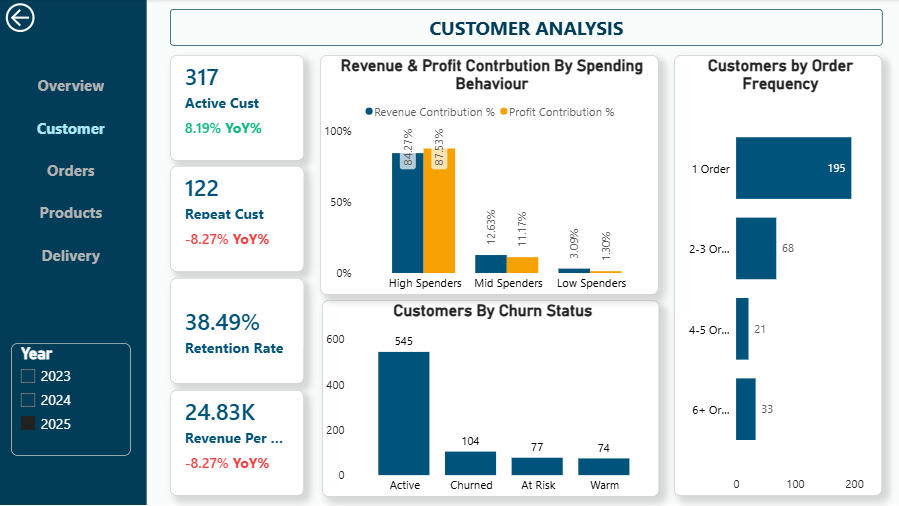

Layout of this report page (visuals, bound fields, positions):
{"tool":"powerbi","page":{"name":"Customer","canvas":[1280,720],"ordinal":1},"visuals":[{"type":"textbox","box":[243.8,14.2,1010,52],"z":0},{"type":"actionButton","box":[18.5,157.1,169.7,50.4],"z":1000},{"type":"actionButton","box":[18.5,218.4,169.7,48.7],"z":2000},{"type":"actionButton","box":[18.5,337.6,169.7,50.4],"z":3000},{"type":"actionButton","box":[18.5,278,169.7,48.7],"z":4000},{"type":"actionButton","box":[18.5,95.7,169.7,50.4],"z":5000},{"type":"actionButton","box":[0,0,63.4,52.8],"z":6000},{"type":"slicer","fields":{"Values":["Calendar.Date.Variation.Date Hierarchy.Year"]},"box":[18.5,487.1,169.7,159.6],"z":7000},{"type":"cardVisual","fields":{"Data":["Count(orders.customer_id)"]},"box":[243.6,79,189.8,149.5],"z":8000},{"type":"cardVisual","fields":{"Data":["measures_table.Repeat Customers"]},"box":[243.1,237,190.2,150.2],"z":9000},{"type":"cardVisual","fields":{"Data":["measures_table.Retention Rate %"]},"box":[243.1,395.6,190.2,150.2],"z":10000},{"type":"cardVisual","fields":{"Data":["measures_table.Revenue Per Customer"]},"box":[243.6,554.3,189.8,149.5],"z":11000},{"type":"clusteredBarChart","title":"Customers by Order Frequency","fields":{"Category":["Order Frequency.Bucket"],"Y":["measures_table.Customers by Order Frequency"]},"box":[958.1,79.4,294.8,625],"z":12000},{"type":"columnChart","title":"Customers By Churn Status","fields":{"Category":["Churn Category.Status"],"Y":["measures_table.Customers by Churn Status"]},"box":[459.2,426.6,477.6,279.2],"z":13000},{"type":"lineClusteredColumnComboChart","title":"Revenue & Profit Contrbution By Spending Behaviour","fields":{"Category":["Customer Segments.Segment"],"Y":["measures_table.Revenue Contribution %","measures_table.Profit Contribution %"]},"box":[456.9,79,480.4,340],"z":14000}]}

Visuals, with their boxes on the page's 1280x720 design canvas (x1, y1, x2, y2). These are canvas units, not pixel positions in the 899x506 screenshot, which may show the page scaled, cropped or inside an application window:
textbox: {"left": 244, "top": 14, "right": 1254, "bottom": 66}
actionButton: {"left": 18, "top": 157, "right": 188, "bottom": 208}
actionButton: {"left": 18, "top": 218, "right": 188, "bottom": 267}
actionButton: {"left": 18, "top": 338, "right": 188, "bottom": 388}
actionButton: {"left": 18, "top": 278, "right": 188, "bottom": 327}
actionButton: {"left": 18, "top": 96, "right": 188, "bottom": 146}
actionButton: {"left": 0, "top": 0, "right": 63, "bottom": 53}
slicer - Calendar.Date.Variation.Date Hierarchy.Year: {"left": 18, "top": 487, "right": 188, "bottom": 647}
cardVisual - Count(orders.customer_id): {"left": 244, "top": 79, "right": 433, "bottom": 228}
cardVisual - measures_table.Repeat Customers: {"left": 243, "top": 237, "right": 433, "bottom": 387}
cardVisual - measures_table.Retention Rate %: {"left": 243, "top": 396, "right": 433, "bottom": 546}
cardVisual - measures_table.Revenue Per Customer: {"left": 244, "top": 554, "right": 433, "bottom": 704}
"Customers by Order Frequency" clusteredBarChart: {"left": 958, "top": 79, "right": 1253, "bottom": 704}
"Customers By Churn Status" columnChart: {"left": 459, "top": 427, "right": 937, "bottom": 706}
"Revenue & Profit Contrbution By Spending Behaviour" lineClusteredColumnComboChart: {"left": 457, "top": 79, "right": 937, "bottom": 419}
